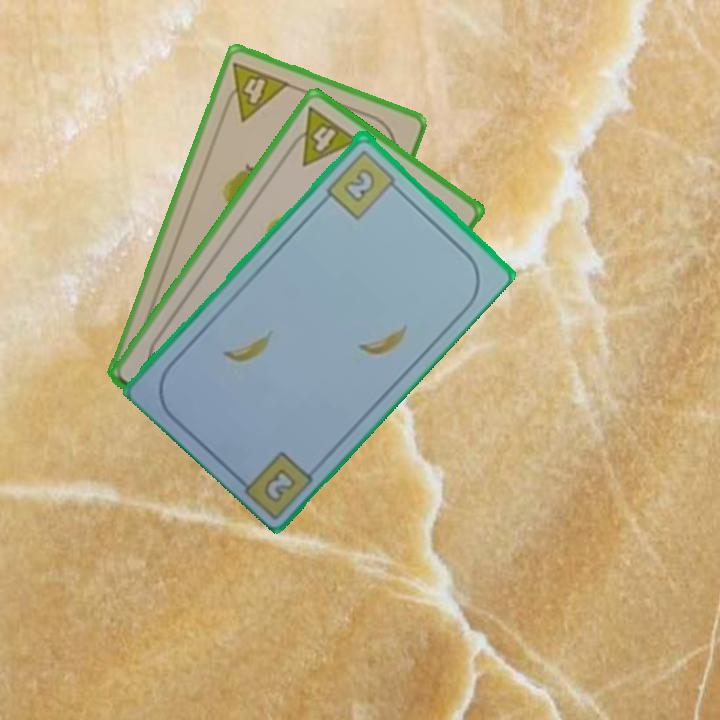2b: (323, 145, 404, 222), (260, 464, 299, 505)
4p: (282, 103, 362, 169), (218, 58, 292, 124)
